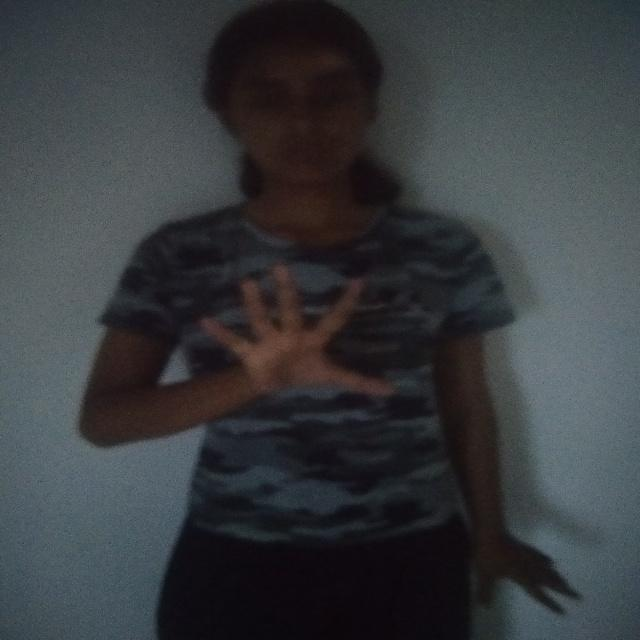Moutza: (196, 262, 412, 426)
